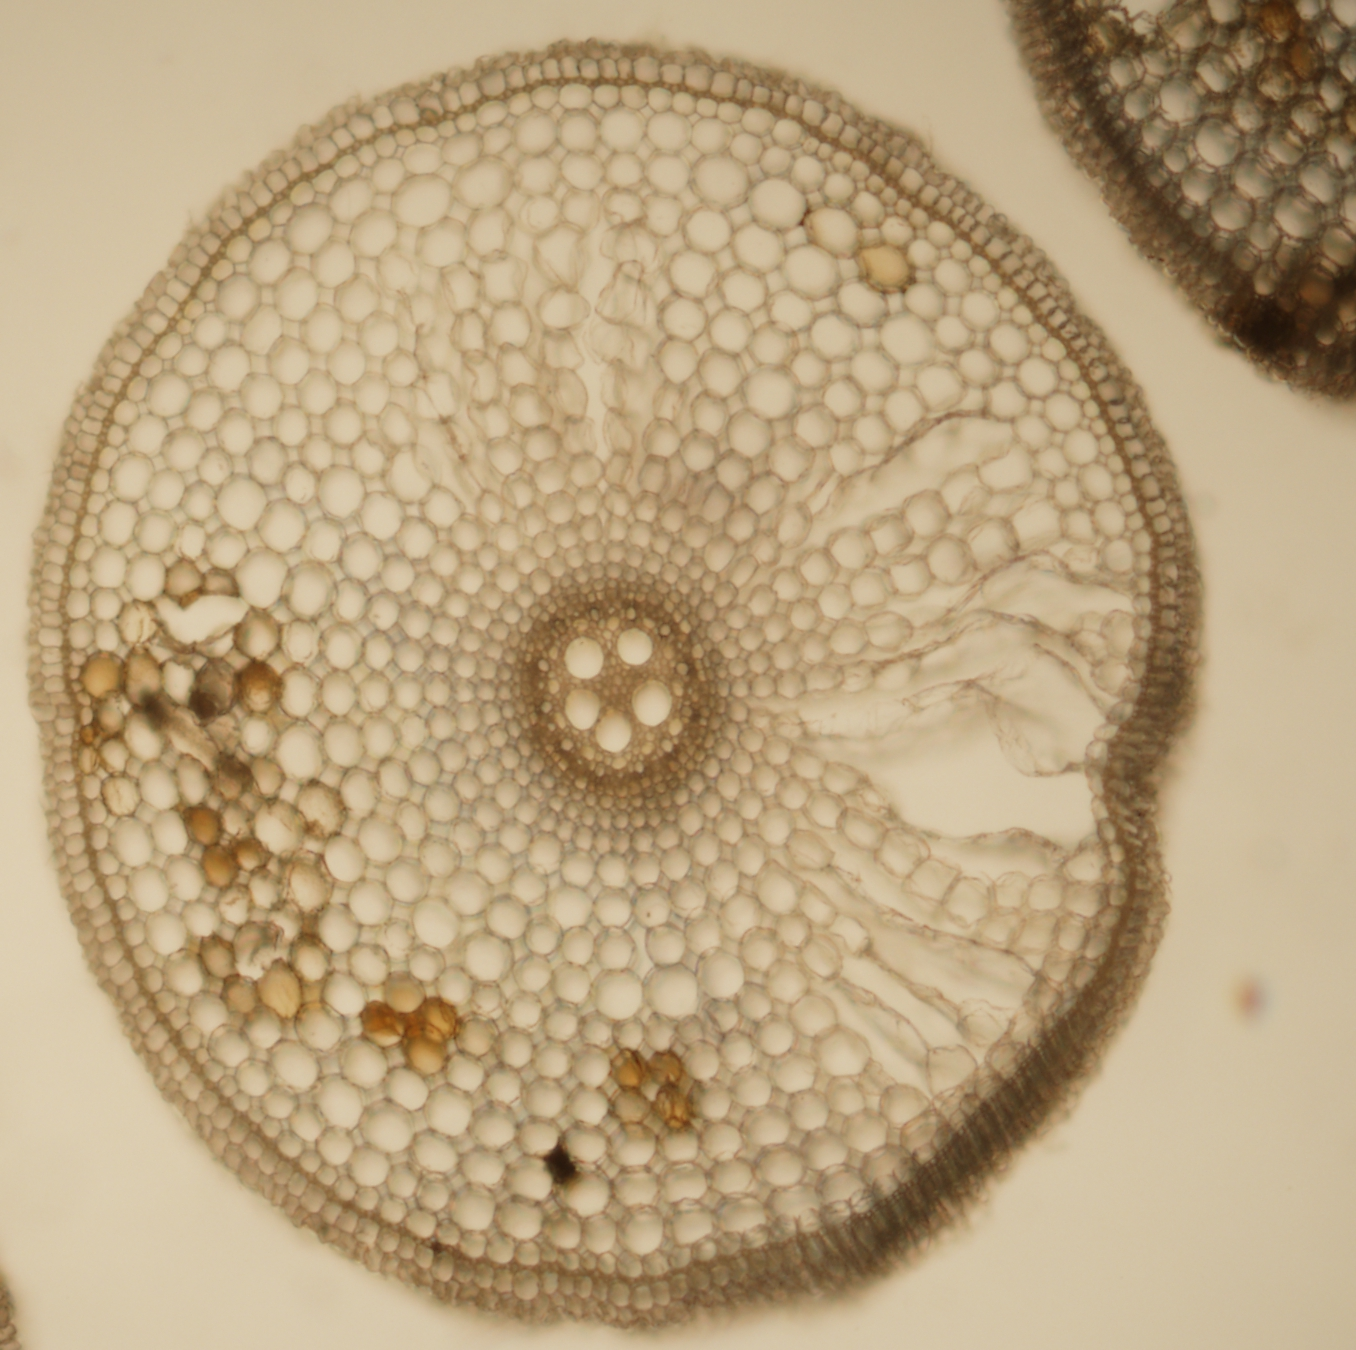lm: (630, 680, 672, 727), (564, 635, 604, 679), (564, 689, 601, 731), (595, 711, 632, 753), (616, 627, 653, 665)
